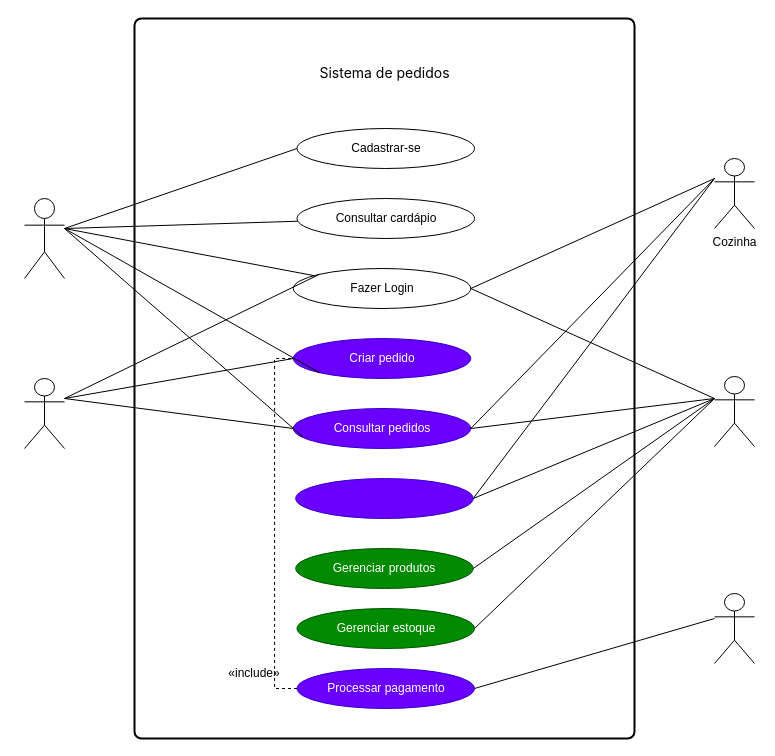
The diagram is 775 pixels wide and 756 high, and some of its shapes have lost their labels. The shapes that lost their labels are listed below. From the top down, each one's box as (x1, y1, x2, y2) in pixels, then its label:
(24, 198, 64, 278): Cliente
(24, 378, 64, 448): Atendente
(714, 376, 754, 446): Gerente
(295, 478, 473, 518): Atualizar status pedidos
(714, 592, 754, 664): Gateway
